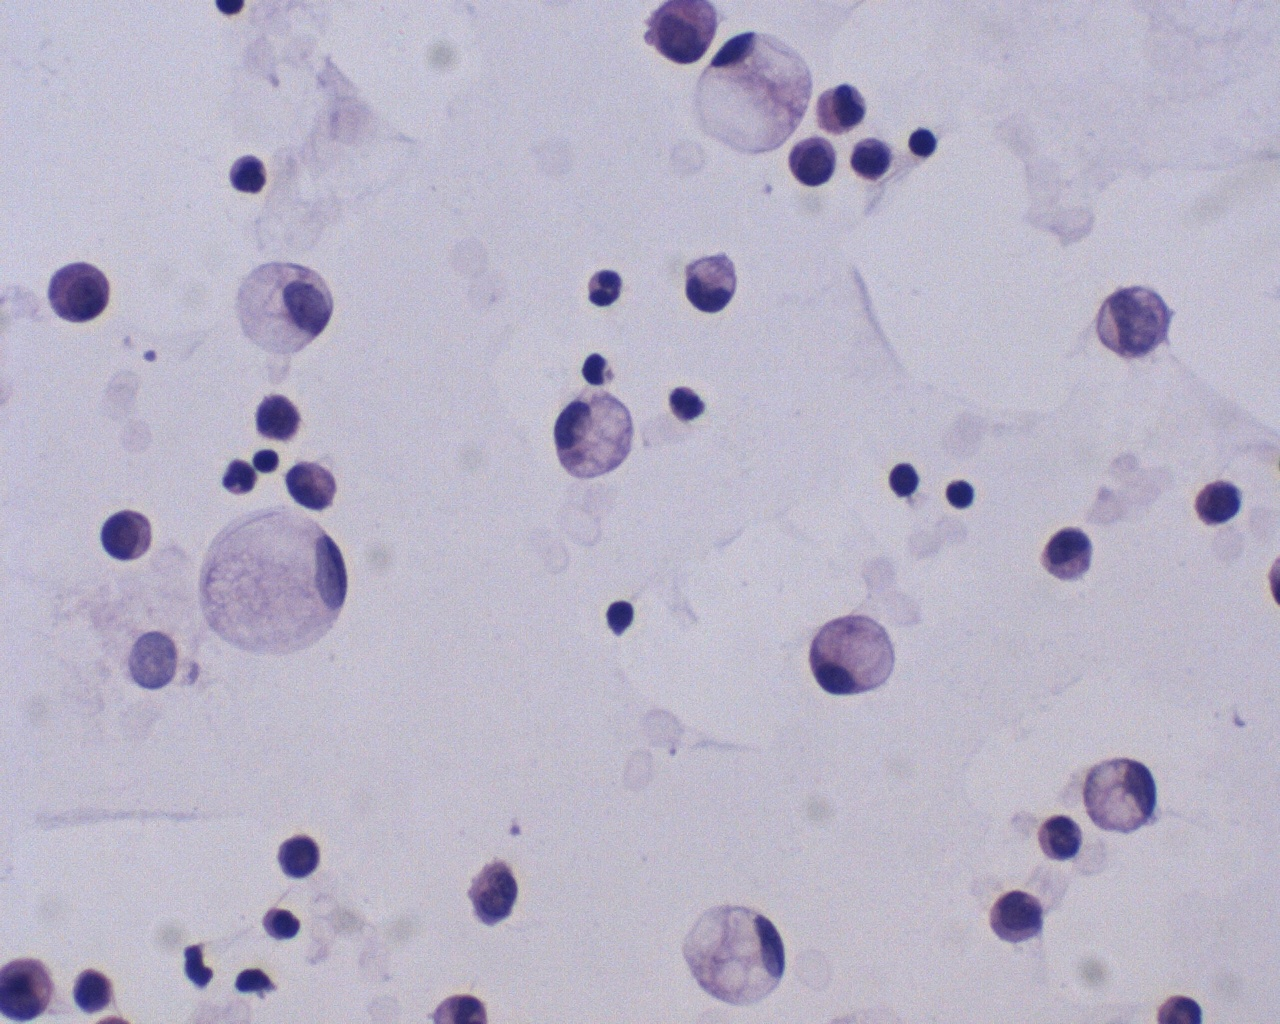ab: (986, 885, 1051, 952), (99, 502, 155, 567), (273, 827, 327, 888), (784, 132, 838, 192)
histo: (201, 506, 350, 664), (693, 27, 811, 153), (677, 897, 802, 1011), (233, 255, 336, 365), (800, 608, 903, 707), (546, 388, 639, 485), (1076, 749, 1159, 845), (678, 246, 746, 320)
lymph: (886, 455, 925, 498), (940, 478, 983, 513), (908, 120, 942, 160), (249, 445, 286, 478)
meso: (45, 257, 111, 330)
neutro: (664, 375, 713, 427), (223, 150, 273, 197), (580, 265, 625, 315), (218, 458, 260, 501)
